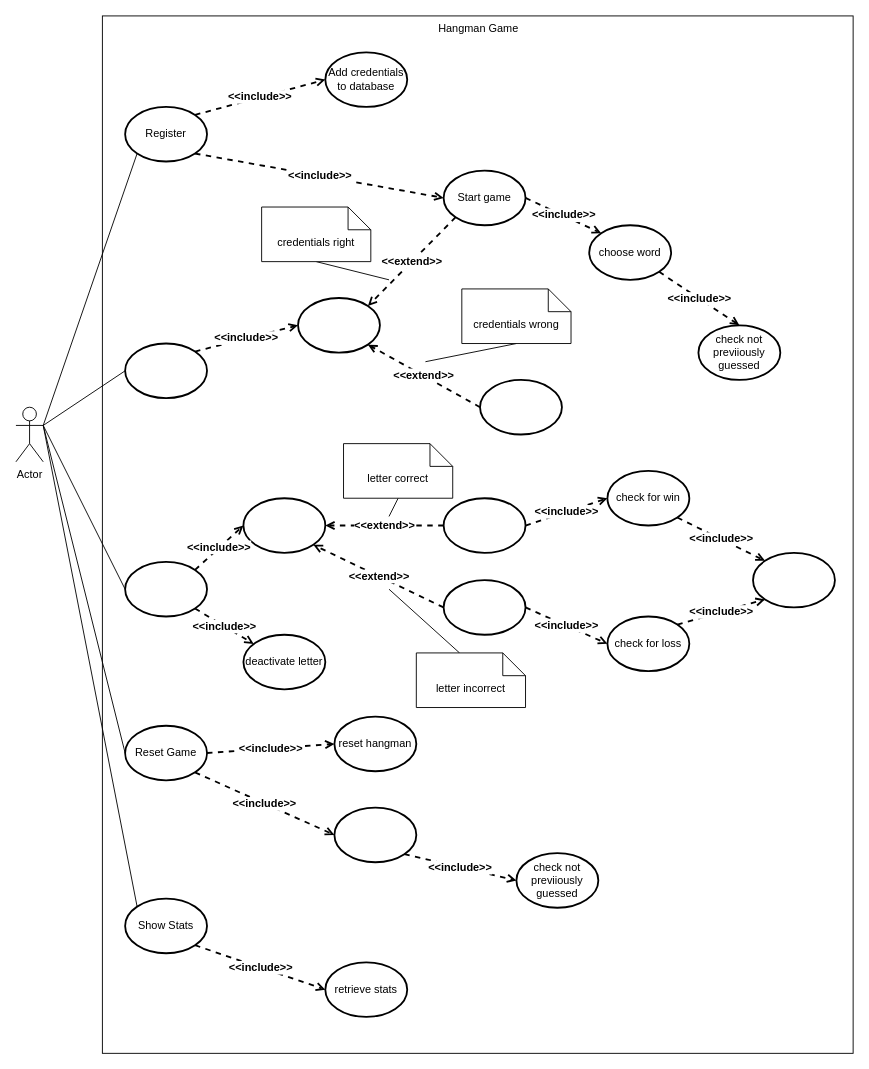
This 869x1069 diagram has some shape labels left out. The box of each missing label's shape, as (x1, y1, x2, y2) in pixels:
add result to record: (752, 551, 835, 608)
Check credentials: (297, 297, 380, 353)
check letter: (242, 497, 326, 553)
choose new word: (333, 806, 417, 863)
dsiplay letter: (442, 497, 526, 553)
Error message: (479, 379, 562, 435)
increase hangman: (442, 579, 526, 635)
Login: (124, 342, 207, 399)
Select Letter: (124, 561, 207, 617)
